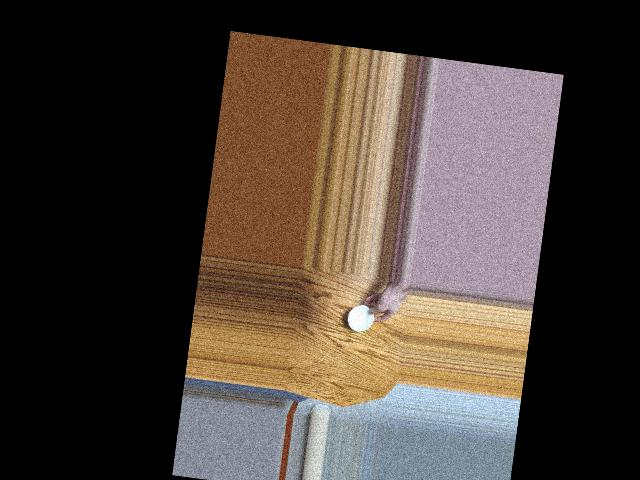cotage: (344, 301, 375, 333)
